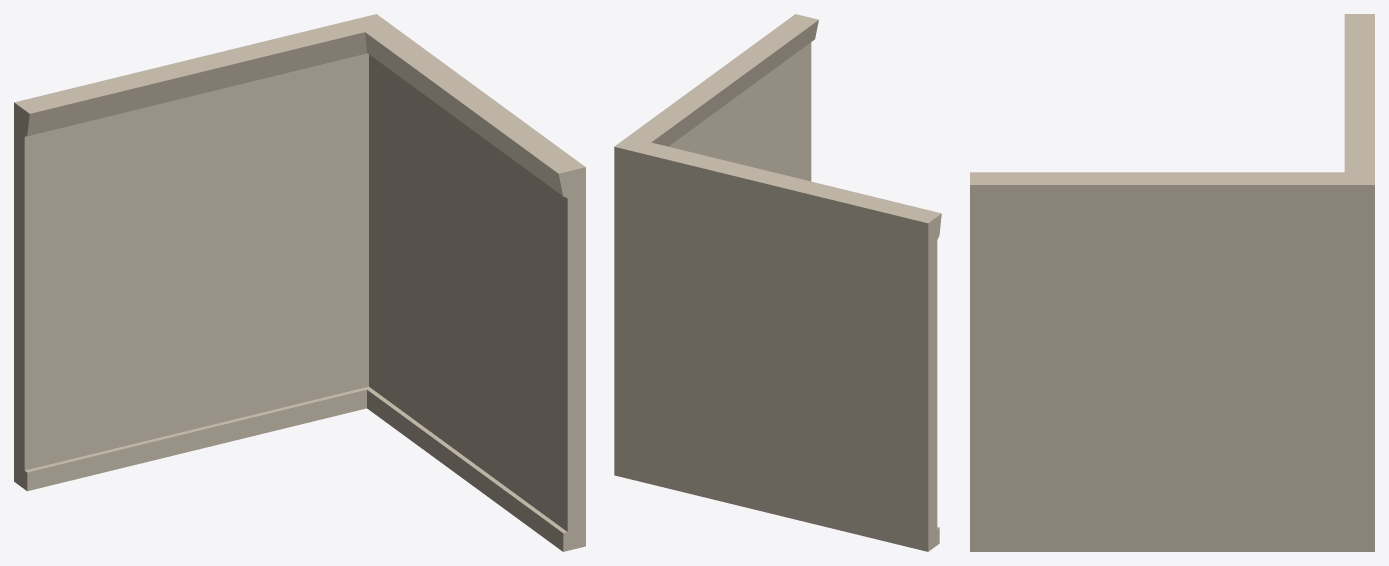
The model's file is Wal_3_1.fbx.
3 renders of one model, left to right at view 1: azimuth 30°, elevation 25°; view 2: azimuth 150°, elevation 25°; view 3: azimuth 270°, elevation 25°, orthographic. The views are drawn at different scales.
Parts seen in each view (by area): view 1: polySurface1898; view 2: polySurface1898; view 3: polySurface1898.
Part boxes in pixels (x1,y1,x2,y2): polySurface1898: [14, 14, 585, 551]; polySurface1898: [614, 14, 941, 551]; polySurface1898: [970, 14, 1374, 551].
Bounding box in the file's own units: 4 × 4 × 4.
Materials: 1 (1 with a texture image).
